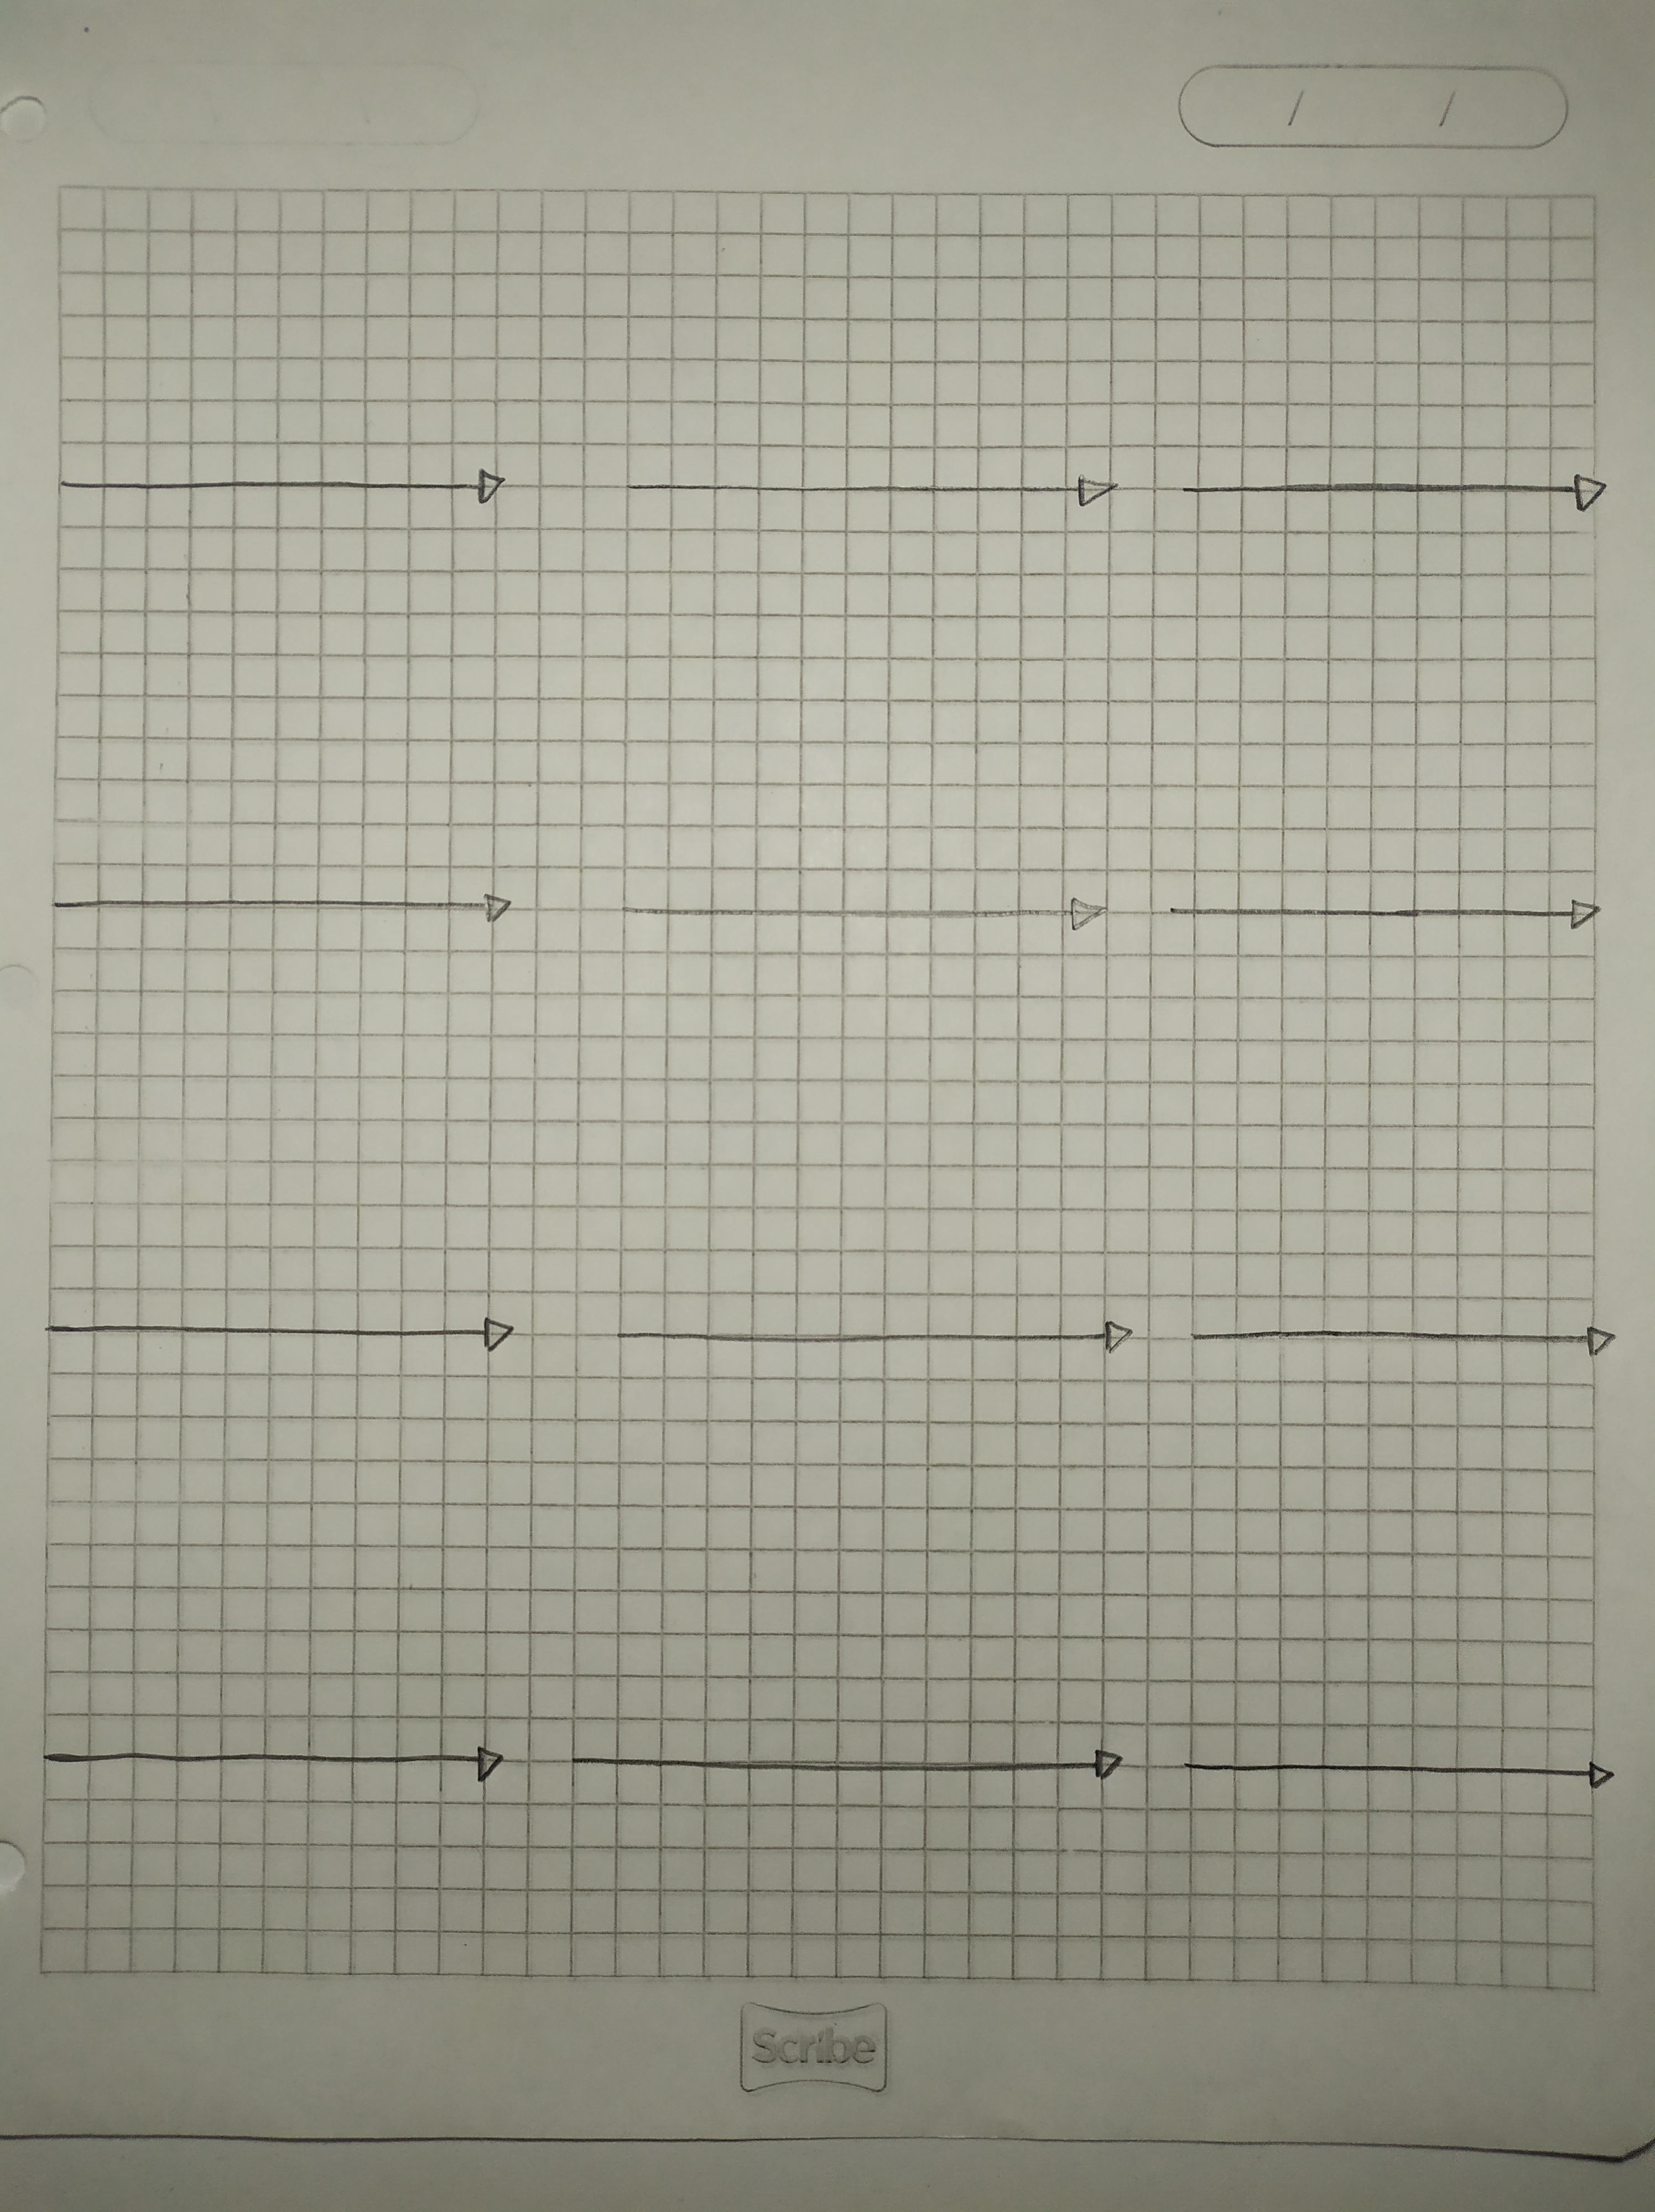arrow_line_right: (549, 1725, 1142, 1816), (579, 1295, 1153, 1383), (40, 434, 511, 539), (17, 1288, 544, 1380), (30, 857, 539, 950), (596, 871, 1139, 954), (1172, 1303, 1653, 1397), (10, 1715, 527, 1797), (605, 445, 1135, 523), (1165, 1729, 1641, 1816), (1166, 454, 1638, 532), (1151, 879, 1631, 937)
